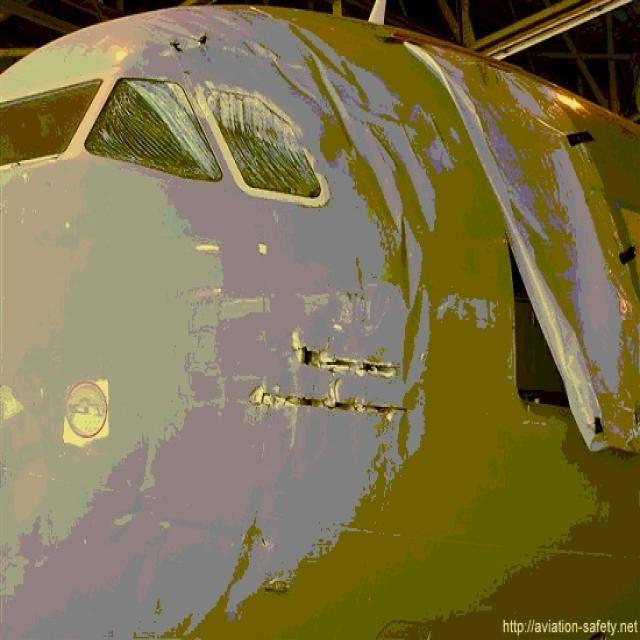crack: (235, 335, 412, 427)
